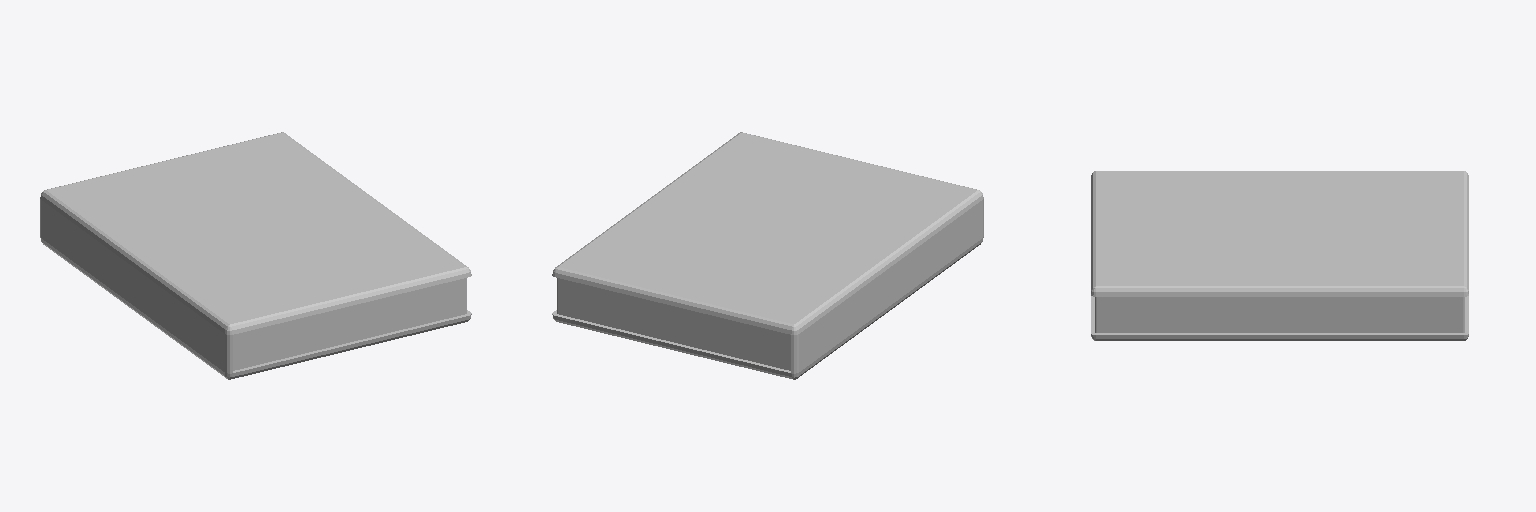
The model's file is book_easy.obj.
3 renders of one model, left to right at view 1: azimuth 30°, elevation 25°; view 2: azimuth 150°, elevation 25°; view 3: azimuth 270°, elevation 25°, orthographic.
Parts seen in each view (by area): view 1: Cube.1; view 2: Cube.1; view 3: Cube.1.
Part boxes in pixels (x1,y1,x2,y2): Cube.1: (40, 132, 471, 379); Cube.1: (552, 132, 983, 379); Cube.1: (1091, 171, 1468, 340).
Bounding box in the file's own units: 15 × 3.2 × 20.